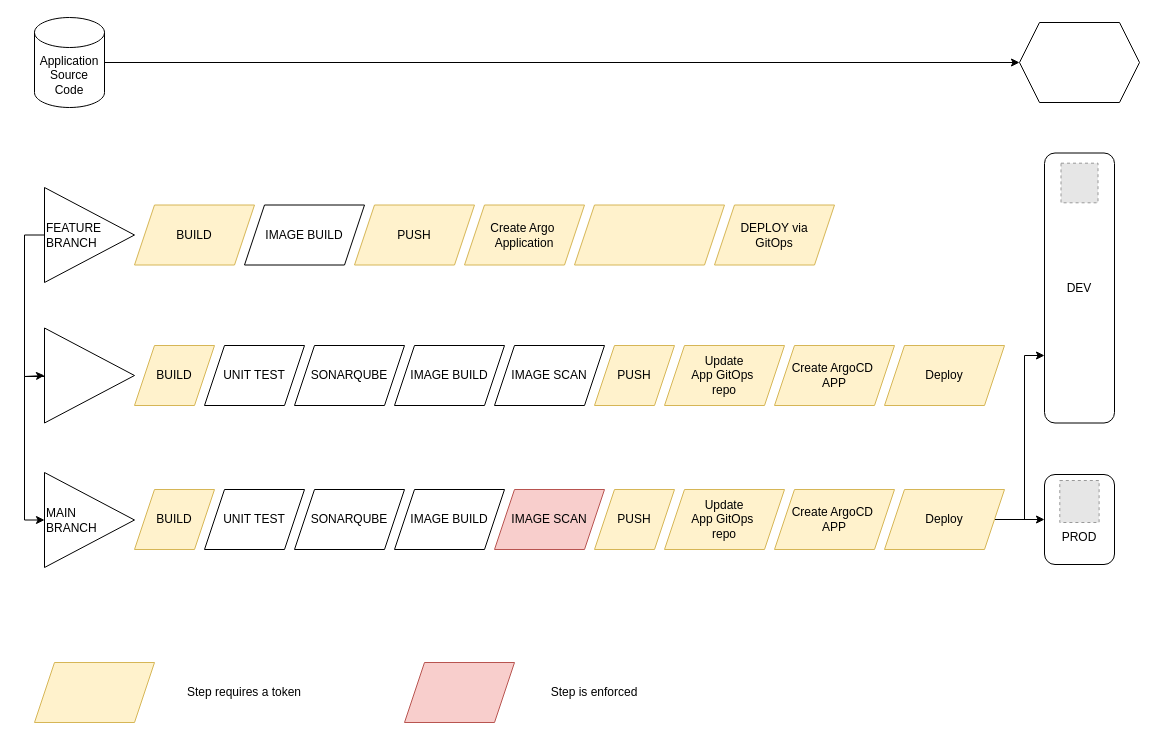
This 1157x740 diagram has some shape labels left out. Grey dashed boxes stand in for pictures. The centre of each missing label's shape, as x and y in pixels:
"Deployed Application" goes at [1079,62].
"NEXT BRANCH" goes at [89,375].
"Update Image in Argo Application" goes at [649,234].
